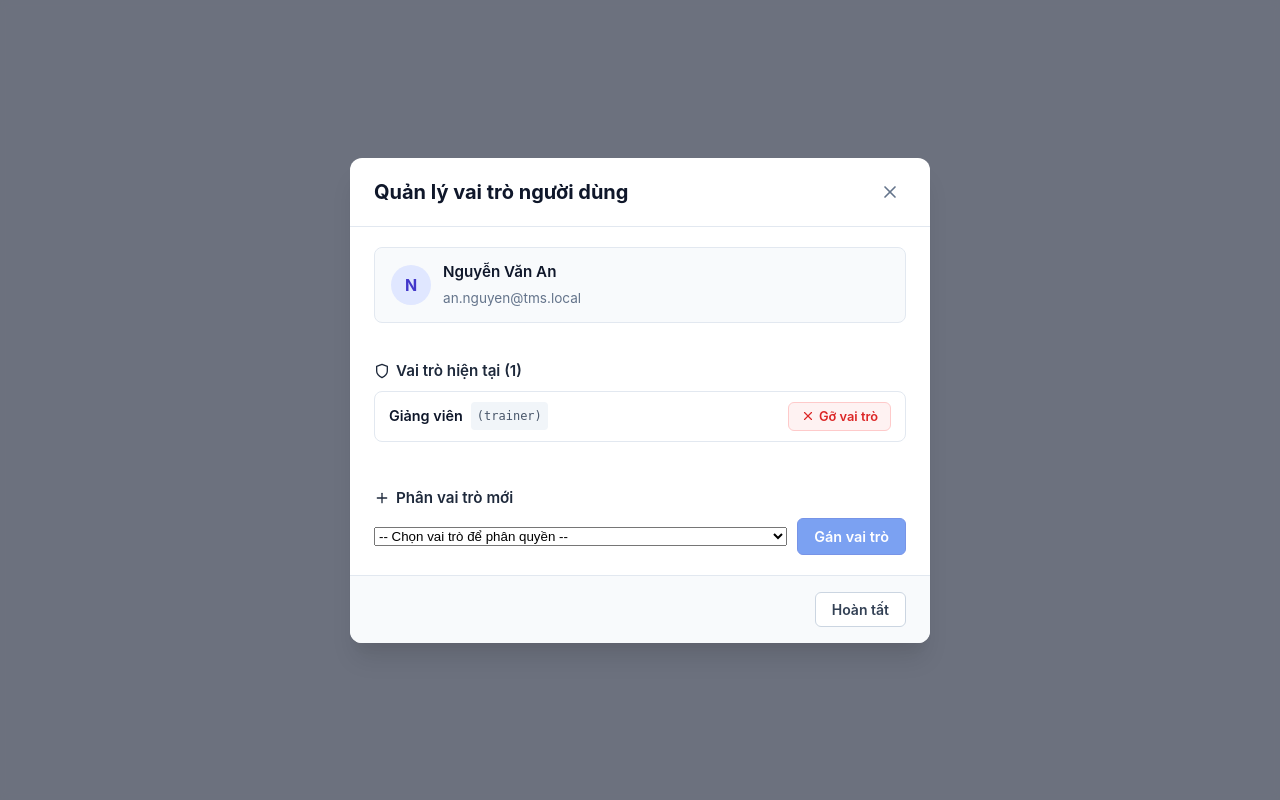
Test case: SCRUM-101: User Role Management Modal Component › 3. gán vai trò mới thành công và hiển thị phản hồi tích cực
Select "Quản trị viên (admin)" in the dropdown with test id "select-assign-role" at coordinates (581, 536), box [374,526,787,546]
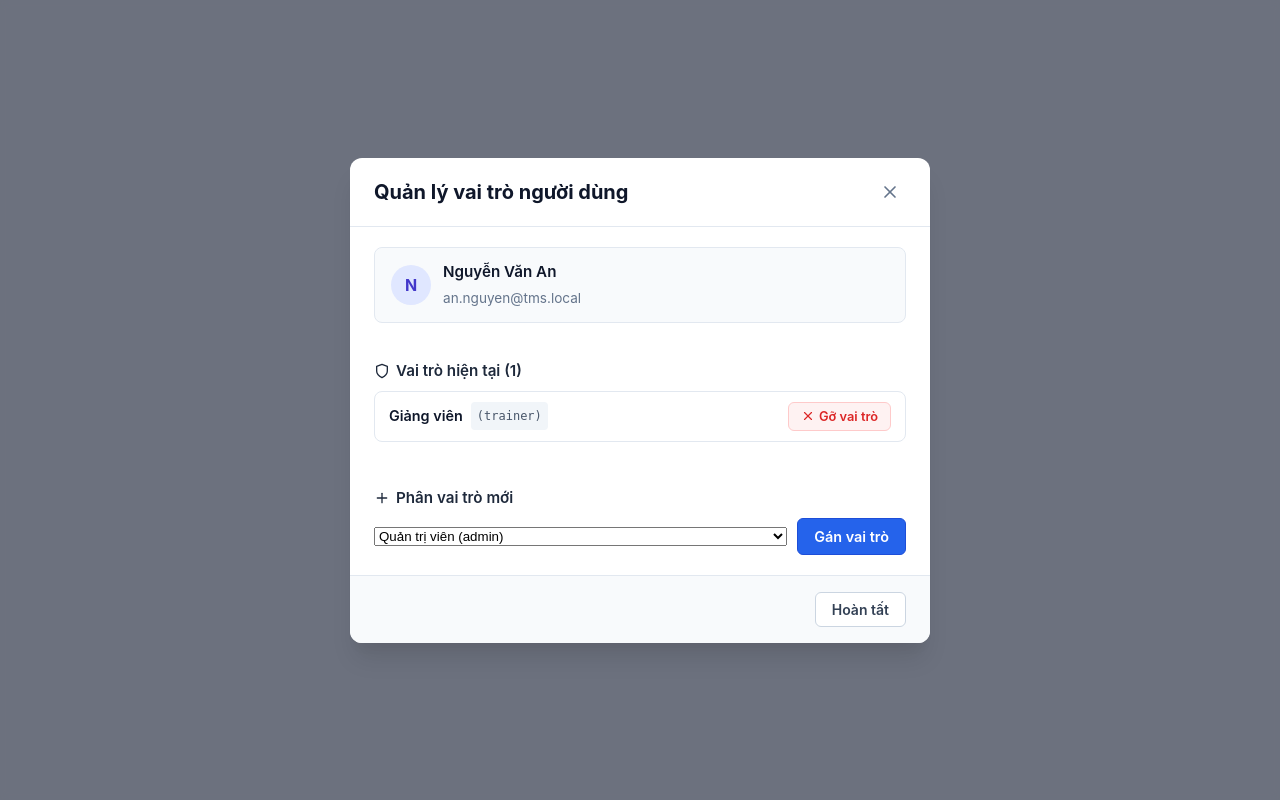
Expected: the button with test id "btn-assign-role-submit" is enabled
Click the button with test id "btn-assign-role-submit" at coordinates (852, 536), box [797,518,906,554]
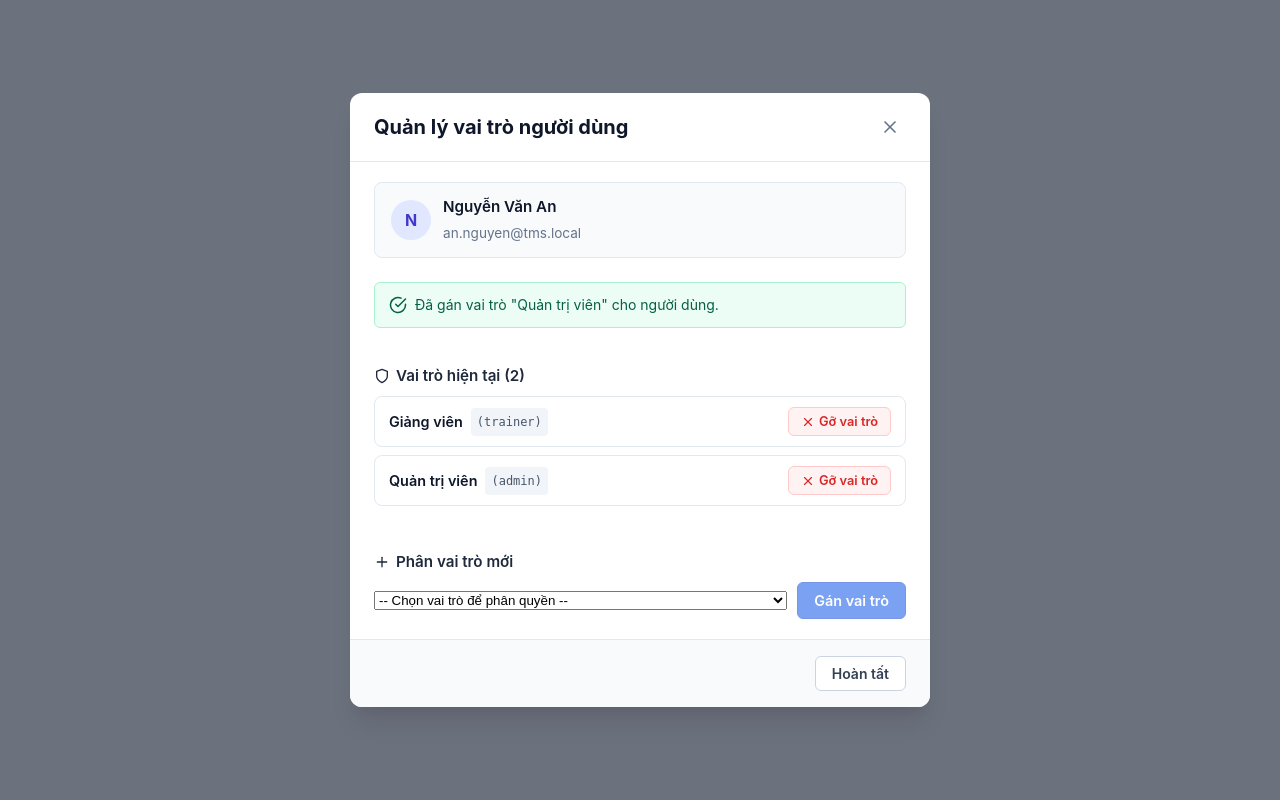
Expected: the message "Đã gán vai trò \"Quản trị viên\" cho người dùng." is shown, [374,282,906,328]
Expected: the text "Đã gán vai trò \"Quản trị viên\" cho người dùng." is shown, [415,293,719,317]
